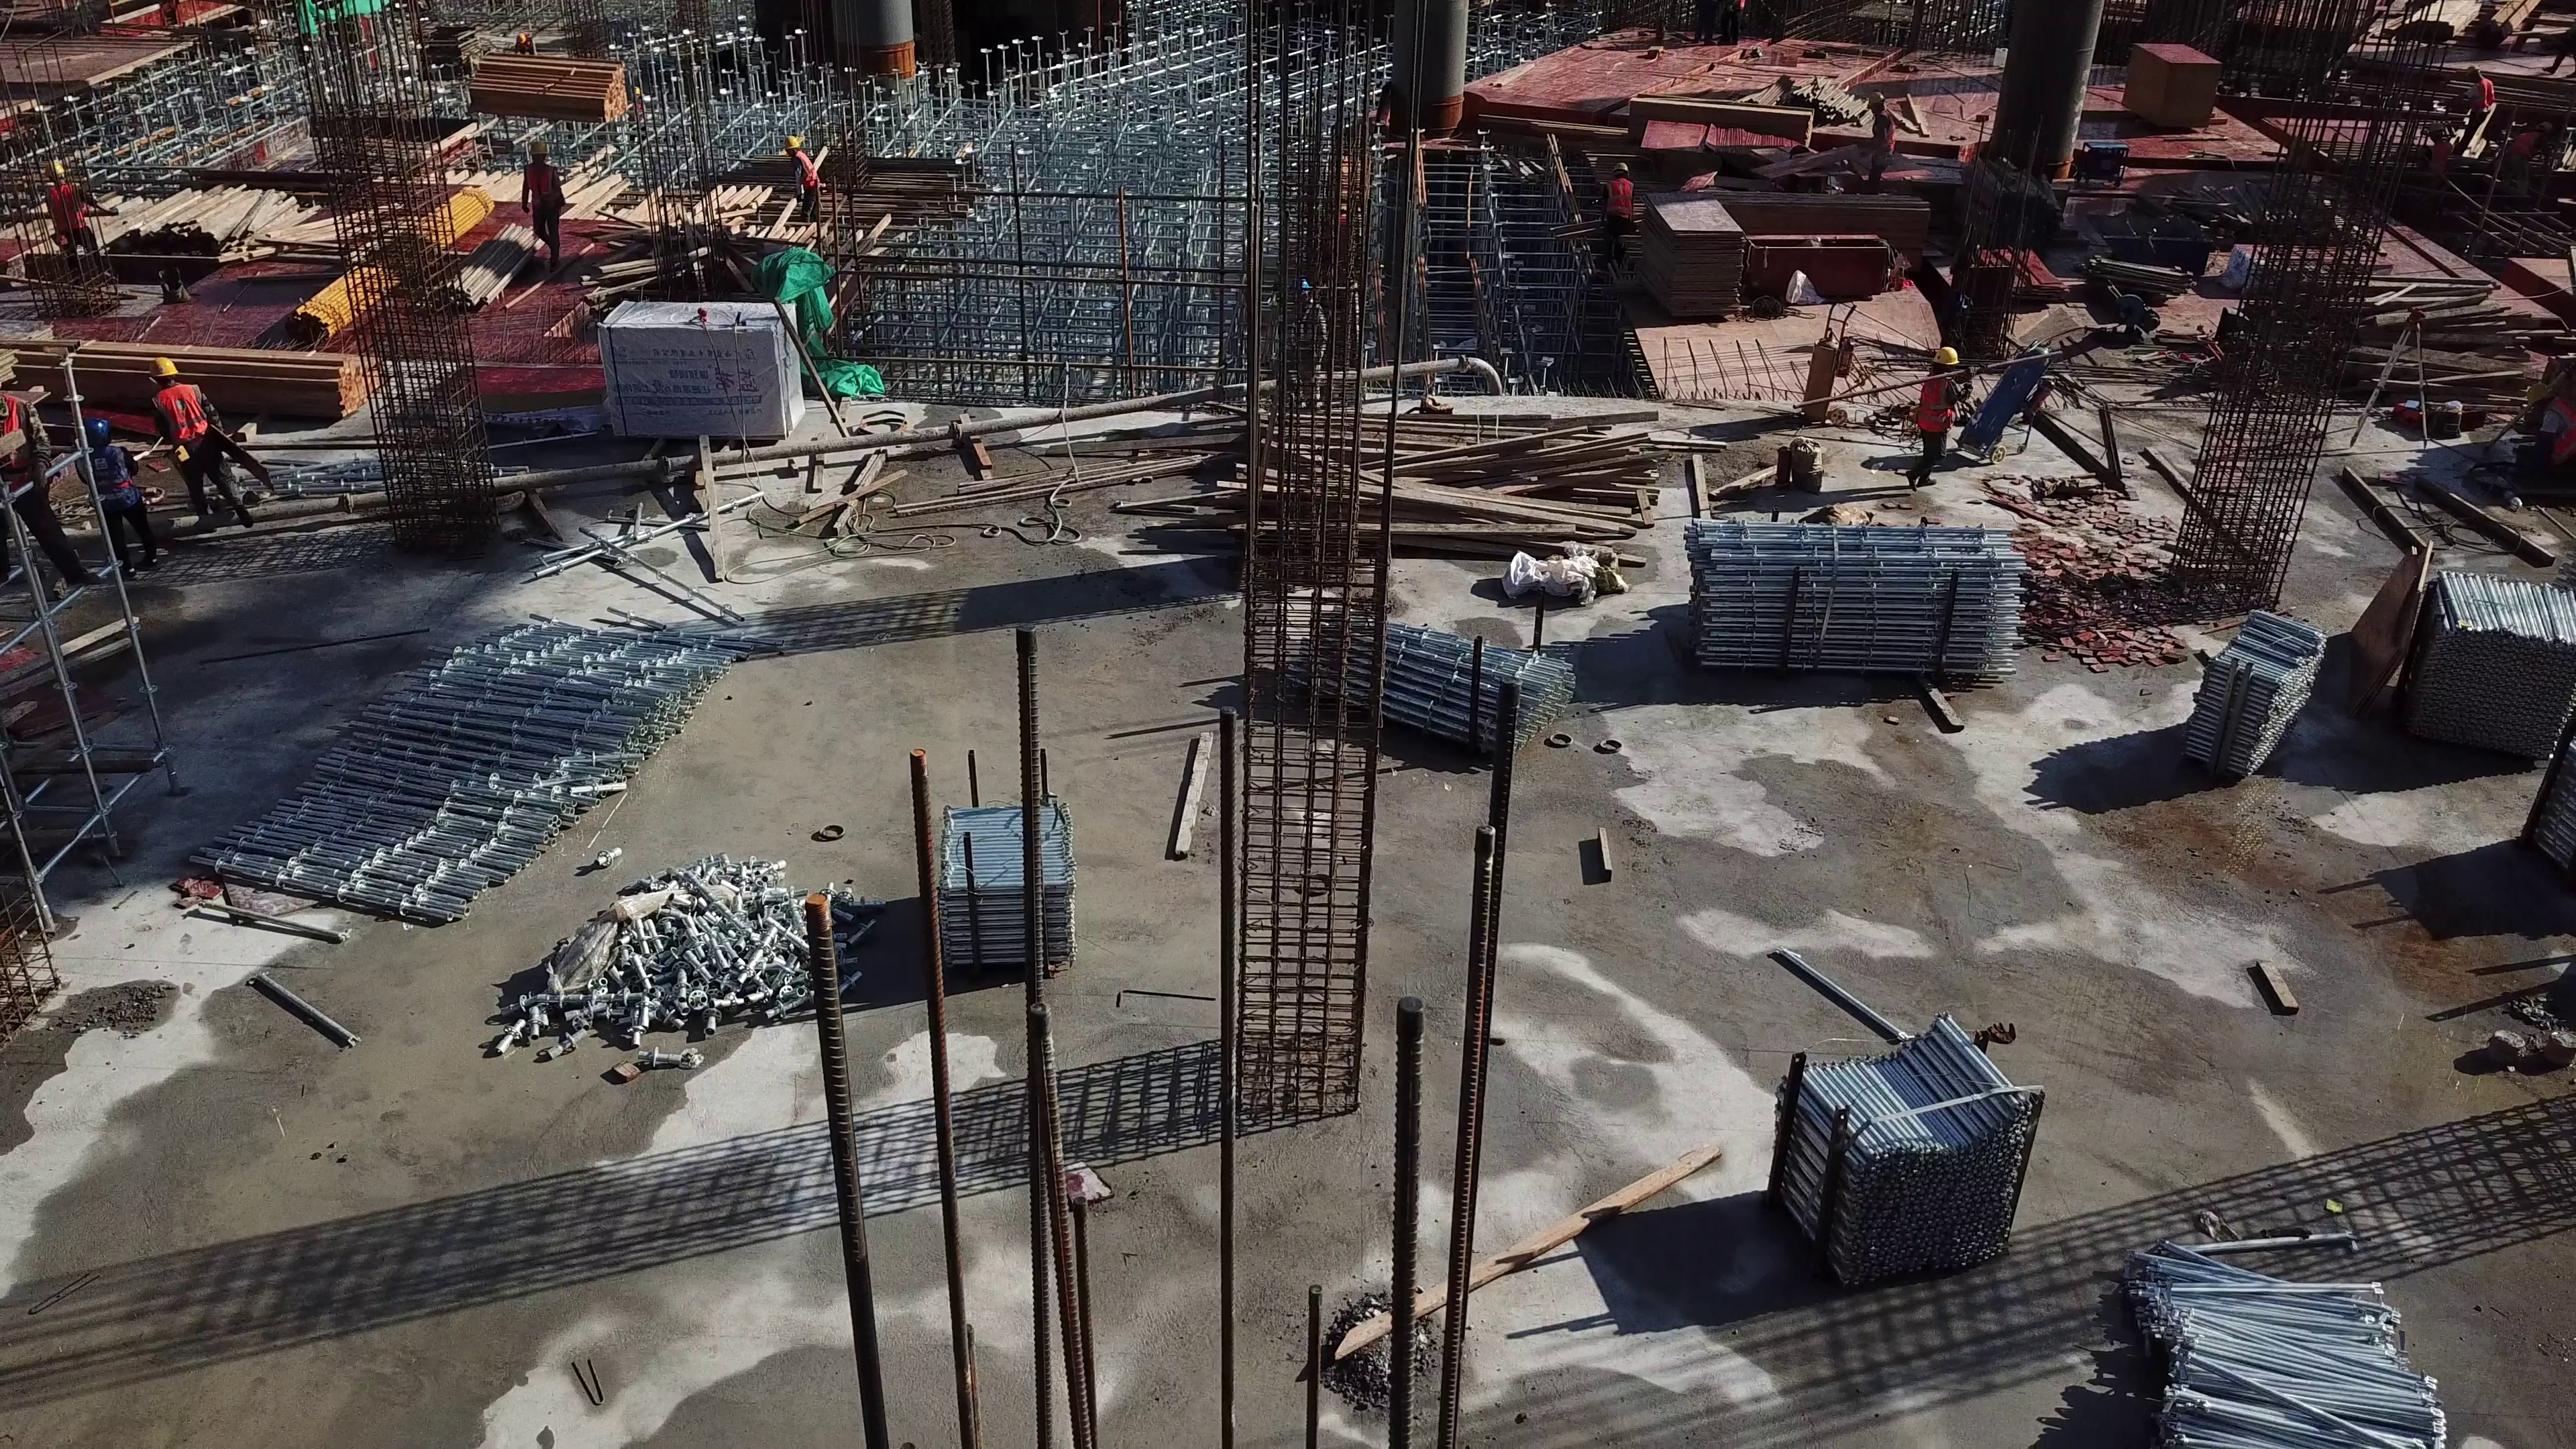board: (1640, 191, 1739, 315), (439, 365, 602, 417), (2121, 41, 2216, 131)
cutter: (1756, 144, 1849, 186), (2108, 297, 2155, 336)
helmet: (88, 420, 113, 448), (1930, 345, 1959, 370), (150, 358, 179, 381), (2524, 380, 2546, 408), (782, 136, 800, 152), (1868, 91, 1886, 109), (531, 144, 548, 158), (49, 164, 68, 174), (1615, 162, 1633, 172), (519, 33, 525, 42)
hopper: (2095, 209, 2208, 273)
person: (2, 374, 92, 587), (146, 356, 252, 524), (75, 417, 159, 575), (1903, 345, 1963, 494), (42, 162, 111, 272), (520, 142, 567, 278), (2526, 381, 2576, 480), (1288, 278, 1326, 409), (1594, 162, 1635, 270), (782, 135, 822, 225), (1866, 89, 1894, 190), (2461, 63, 2490, 159), (1690, 1, 1715, 42), (1721, 1, 1743, 42), (516, 29, 533, 54)
scaffold: (189, 627, 747, 920), (2129, 1240, 2460, 1449), (1779, 1014, 2019, 1270), (1680, 511, 2026, 682), (1285, 609, 1568, 765), (2401, 559, 2573, 751), (2178, 609, 2312, 773), (944, 800, 1073, 969)
vest: (79, 450, 136, 507), (158, 384, 211, 441), (4, 396, 30, 488), (1919, 375, 1953, 433), (2551, 398, 2575, 463), (52, 188, 86, 229), (1607, 178, 1632, 219), (527, 166, 552, 207), (794, 150, 816, 186), (1876, 110, 1892, 150), (2473, 80, 2493, 107)
wood: (13, 340, 373, 409), (1715, 188, 1927, 246), (1630, 93, 1811, 152), (468, 51, 627, 119), (2383, 1, 2478, 38)
